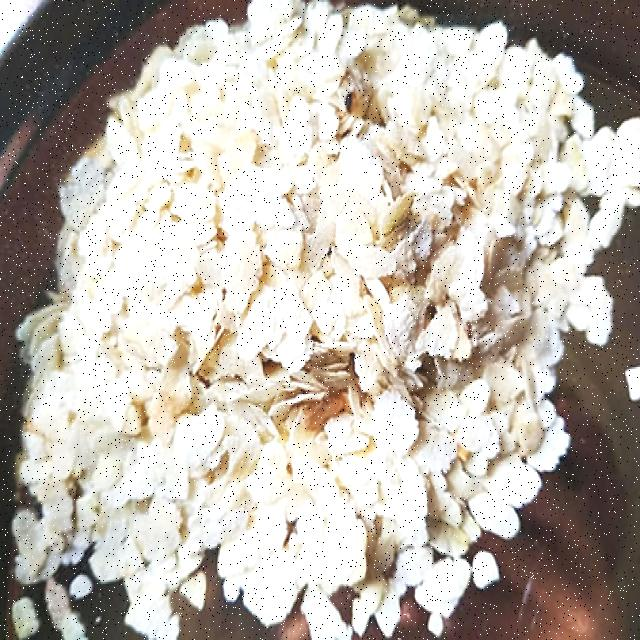Beaten Rice: (118, 74, 594, 525)
